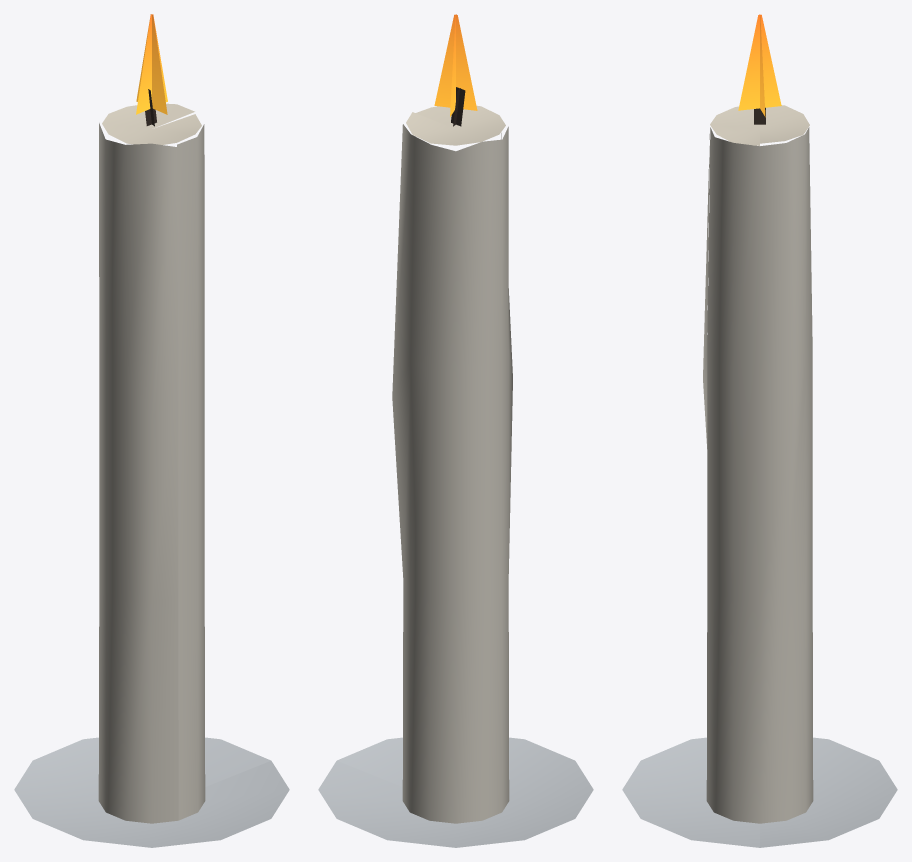
File: SM_Candle_New.glb
The picture shows the model from 3 angles, left to right: view 1: azimuth 30°, elevation 25°; view 2: azimuth 150°, elevation 25°; view 3: azimuth 270°, elevation 25°; orthographic projection.
Parts seen in each view (by area): view 1: than_nen_New, dia_nen_New, mieng_nen_New, SM_Flame_Candle_quad0, SM_Flame_Candle_quad1; view 2: than_nen_New, dia_nen_New, mieng_nen_New, SM_Flame_Candle_quad0; view 3: than_nen_New, dia_nen_New, mieng_nen_New, SM_Flame_Candle_quad1.
Part boxes in pixels (box(x1,y1,x2,y2)): than_nen_New: box(98, 123, 205, 823); dia_nen_New: box(14, 737, 289, 847); mieng_nen_New: box(102, 103, 201, 144); SM_Flame_Candle_quad0: box(136, 14, 167, 114); SM_Flame_Candle_quad1: box(136, 14, 167, 114); than_nen_New: box(392, 124, 512, 823); dia_nen_New: box(318, 737, 593, 847); mieng_nen_New: box(406, 105, 505, 145); SM_Flame_Candle_quad0: box(434, 14, 477, 110); than_nen_New: box(703, 127, 813, 823); dia_nen_New: box(622, 737, 897, 847); mieng_nen_New: box(710, 105, 809, 145); SM_Flame_Candle_quad1: box(738, 14, 781, 110).
Bounding box in the file's own units: 0.08 × 0.2542 × 0.08.
